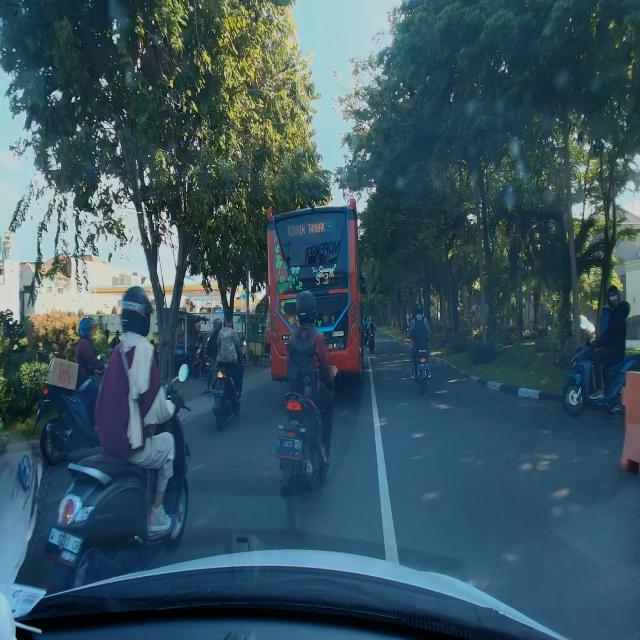bus: (265, 197, 364, 382)
